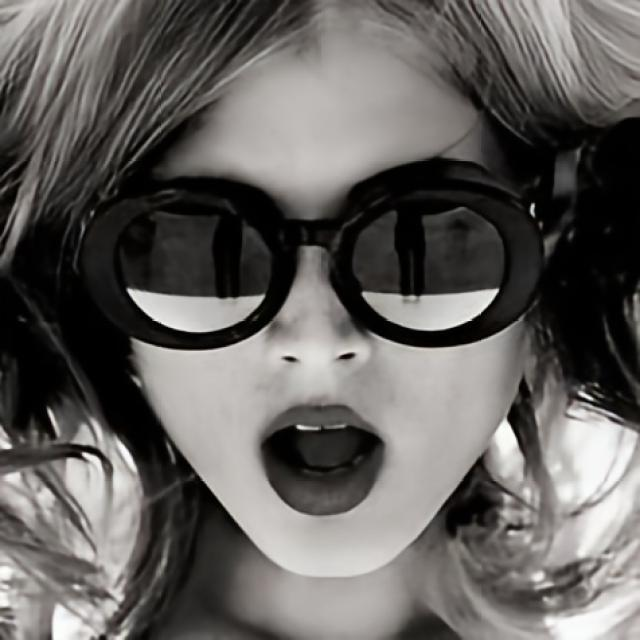surprise: (106, 6, 531, 582)
